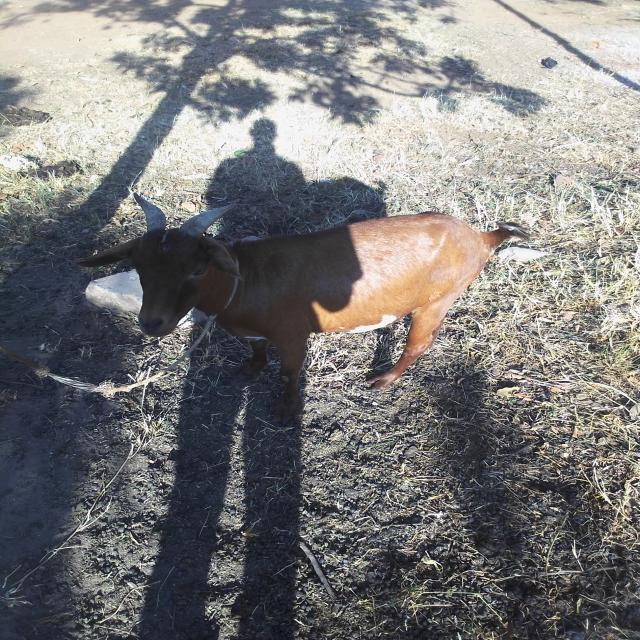goat: (22, 160, 579, 445)
